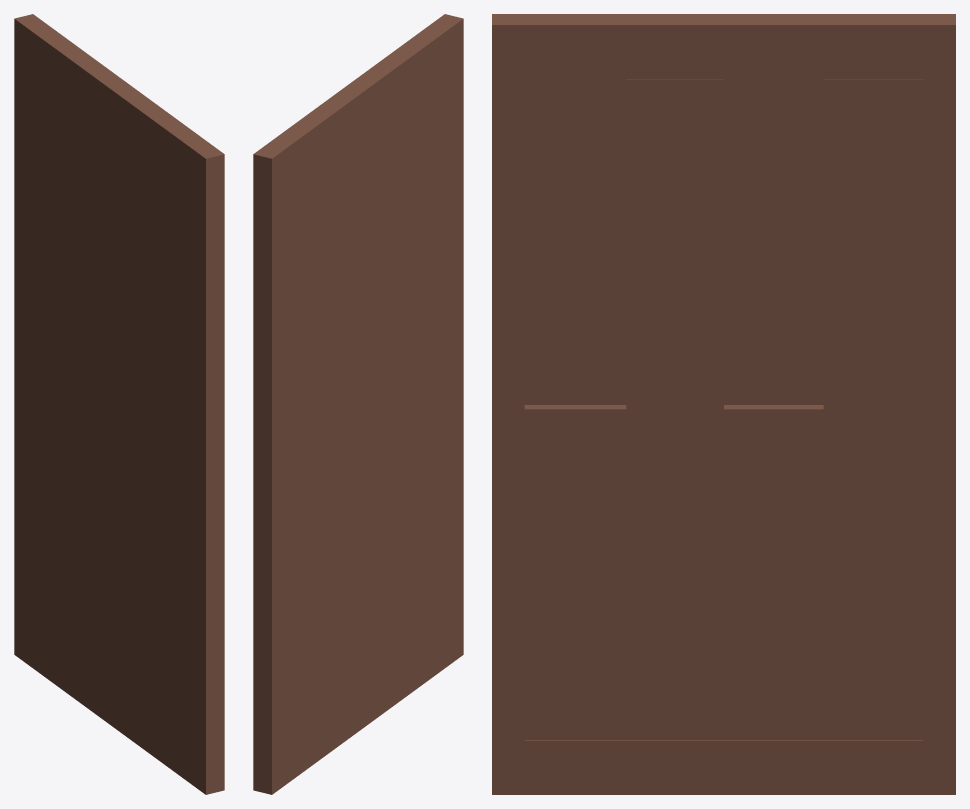
File: Porta.fbx
3 renders of one model, left to right at view 1: azimuth 30°, elevation 25°; view 2: azimuth 150°, elevation 25°; view 3: azimuth 270°, elevation 25°, orthographic. The views are drawn at different scales.
Visible parts, largest first — view 1: Cube; view 2: Cube; view 3: Cube.
Part boxes in pixels (x1=…): Cube: x1=14, y1=14, x2=224, y2=794; Cube: x1=253, y1=14, x2=463, y2=794; Cube: x1=492, y1=14, x2=955, y2=794.
Bounding box in the file's own units: 56.49 × 1828 × 998.
